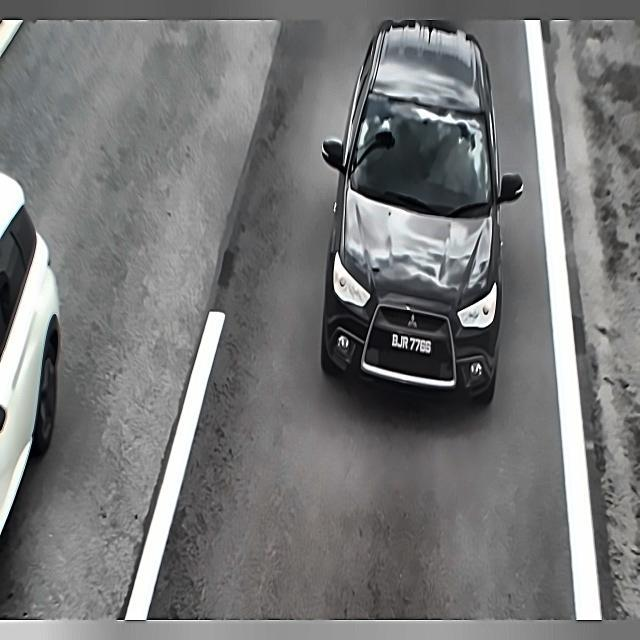car: (386, 327, 438, 360)
